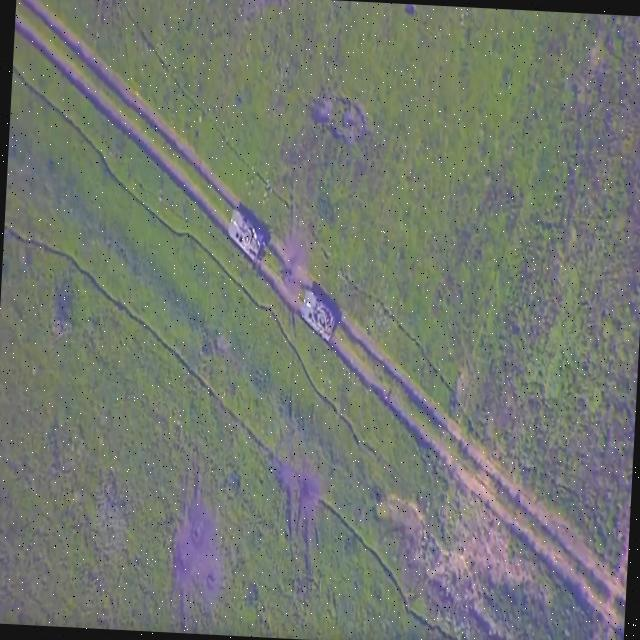AIFV: (223, 208, 268, 269), (298, 288, 343, 332)
